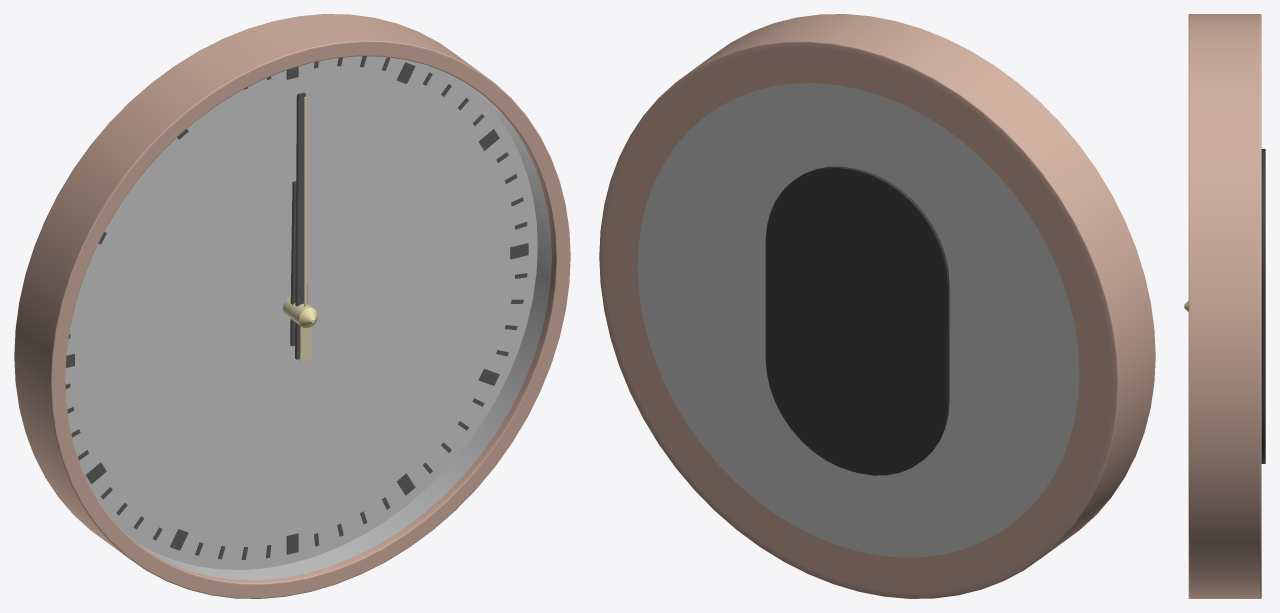
File: clock.fbx
The picture shows the model from 3 angles, left to right: view 1: azimuth 30°, elevation 25°; view 2: azimuth 150°, elevation 25°; view 3: azimuth 270°, elevation 25°; orthographic projection. The views are drawn at different scales.
Visible parts, largest first — view 1: Body, Glass, Graduation, Minute, Second, Hour; view 2: Body, BackPanel; view 3: Body, BackPanel.
Part boxes in pixels (box(x1,y1,x2,y2)): Body: box(14, 14, 570, 598); Glass: box(66, 57, 551, 579); Graduation: box(65, 56, 528, 559); Minute: box(295, 92, 307, 359); Second: box(300, 96, 311, 362); Hour: box(290, 181, 296, 346); Body: box(599, 14, 1155, 598); BackPanel: box(765, 166, 949, 475); Body: box(1188, 14, 1261, 598); BackPanel: box(1261, 149, 1265, 463).
Bounding box in the file's own units: 200 × 200 × 27.79.
